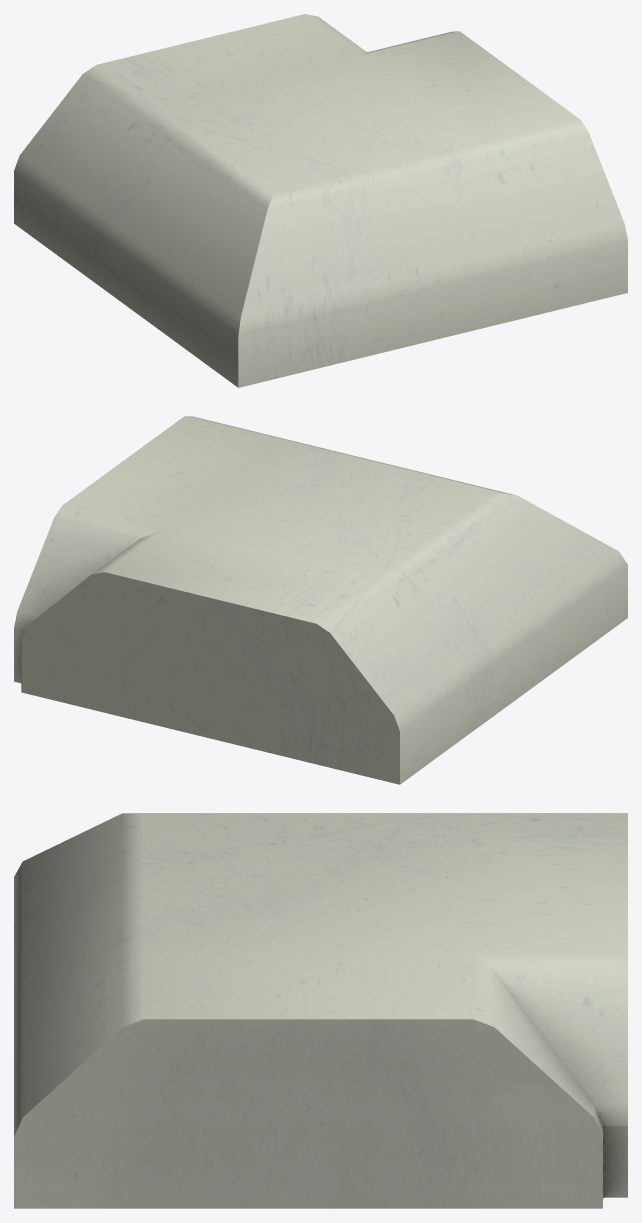
The model's file is Orning_Corner_Long.fbx.
3 renders of one model, top to bottom at view 1: azimuth 30°, elevation 25°; view 2: azimuth 150°, elevation 25°; view 3: azimuth 270°, elevation 25°, orthographic. The views are drawn at different scales.
Parts seen in each view (by area): view 1: m_city_orning_straight.019; view 2: m_city_orning_straight.019; view 3: m_city_orning_straight.019.
Boxes of the visible parts, box(x1,y1,x2,y2) form: m_city_orning_straight.019: box(14, 14, 627, 387); m_city_orning_straight.019: box(14, 416, 627, 784); m_city_orning_straight.019: box(14, 813, 627, 1208).
Size of the model in its own units: 68.76 by 23.38 by 68.65.
